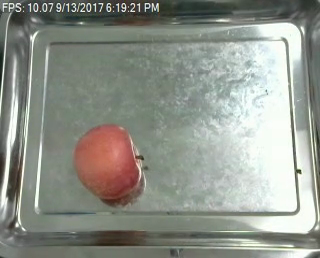Apple: (70, 122, 142, 206)
